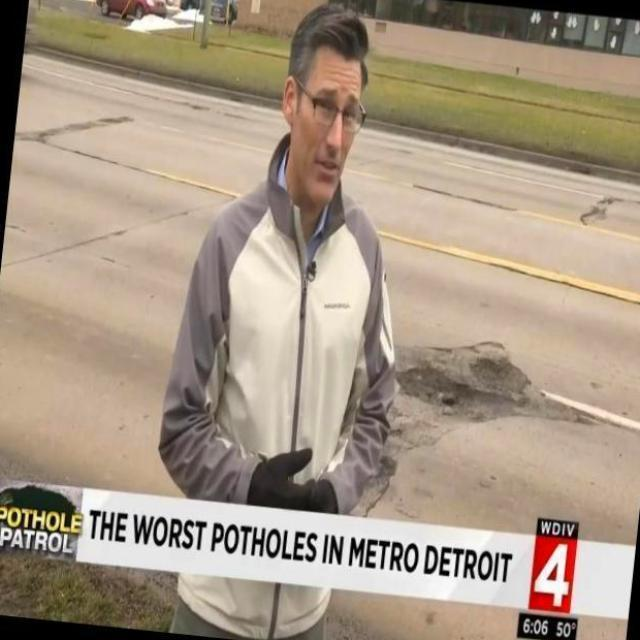pothole: (408, 338, 574, 444)
